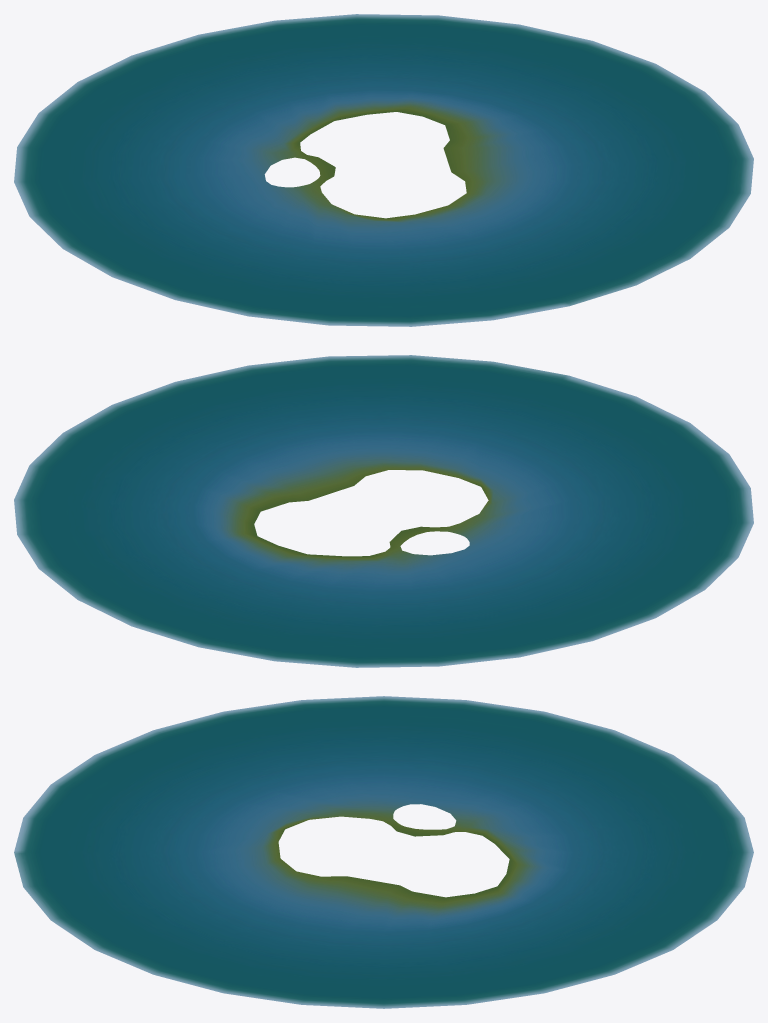
File: sea.obj
3 views of the same model, one above another, from view 1: azimuth 30°, elevation 25°; view 2: azimuth 150°, elevation 25°; view 3: azimuth 270°, elevation 25° (orthographic).
Parts seen in each view (by area): view 1: Sea; view 2: Sea; view 3: Sea.
Boxes of the visible parts, x1=… form: Sea: x1=14, y1=14, x2=753, y2=326; Sea: x1=14, y1=355, x2=753, y2=667; Sea: x1=14, y1=696, x2=753, y2=1008.
Size of the model in its own units: 0.1712 by 0 by 0.1712.
Materials: 1 (1 with a texture image).
